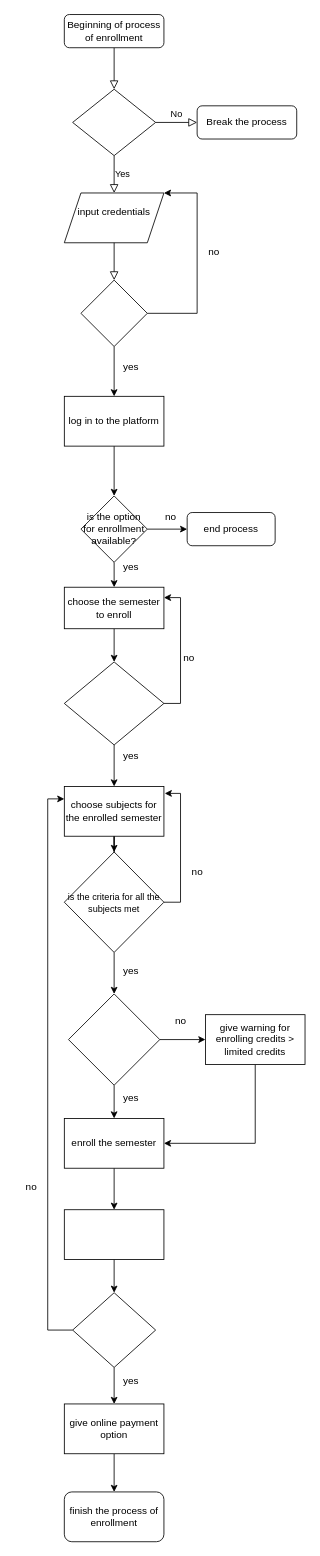
This 320x1556 diagram has some shape labels left out. Each missing label, with the centre of its shape:
are they valid?: the point at 113,313
Do you have an account: the point at 114,122
has the enrollment been confirmed: the point at 114,1329
is the chosen semester valid for this user?: the point at 113,703
is the sum of credits below 35: the point at 114,1039
wait for confirmation from the student enrolling department: the point at 113,1234
